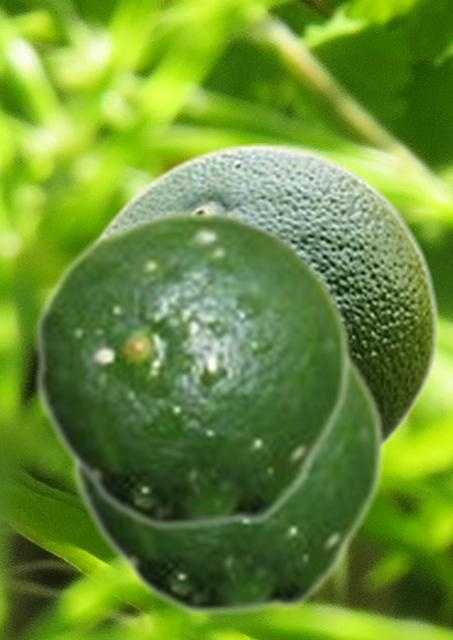calamansi: (93, 143, 438, 447), (33, 208, 352, 531), (71, 351, 386, 617)
